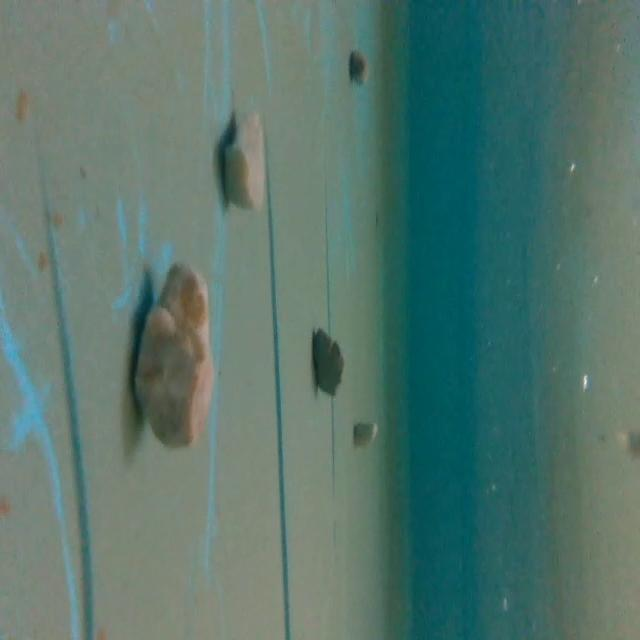rock: (126, 255, 215, 454), (216, 108, 270, 216), (310, 324, 343, 399), (346, 47, 370, 90)
